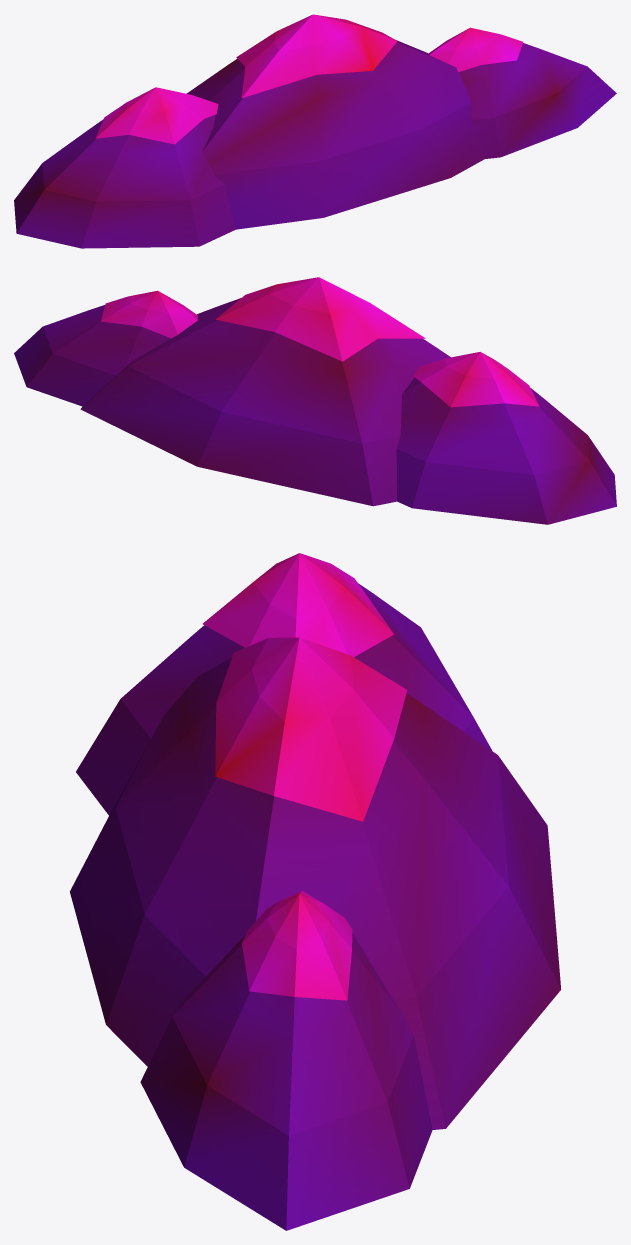
File: Mountain_Back_03.glb
3 views of the same model, one above another, from view 1: azimuth 30°, elevation 25°; view 2: azimuth 150°, elevation 25°; view 3: azimuth 270°, elevation 25° (orthographic). The views are drawn at different scales.
Parts seen in each view (by area): view 1: Mountain_Back_03; view 2: Mountain_Back_03; view 3: Mountain_Back_03.
Boxes of the visible parts, left/top/right/bottom form: Mountain_Back_03: left=14, top=14, right=616, bottom=248; Mountain_Back_03: left=14, top=277, right=616, bottom=524; Mountain_Back_03: left=70, top=553, right=561, bottom=1230.
Bounding box in the file's own units: 101 × 24.25 × 36.01.
